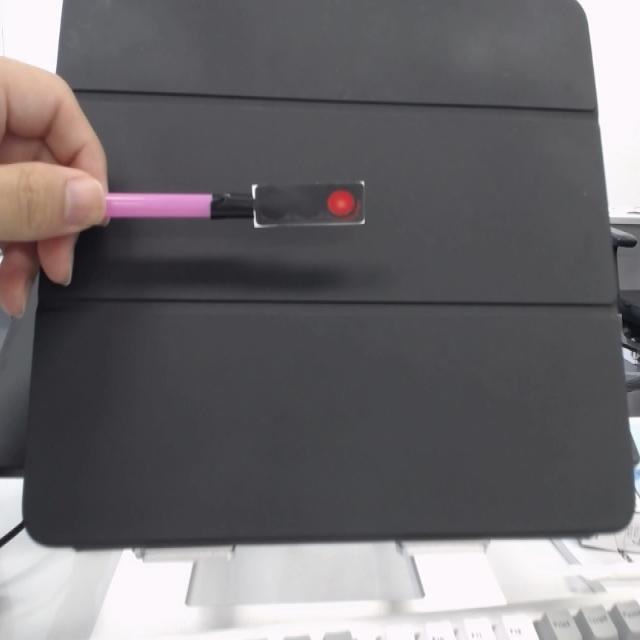traffic light: (249, 180, 371, 237)
